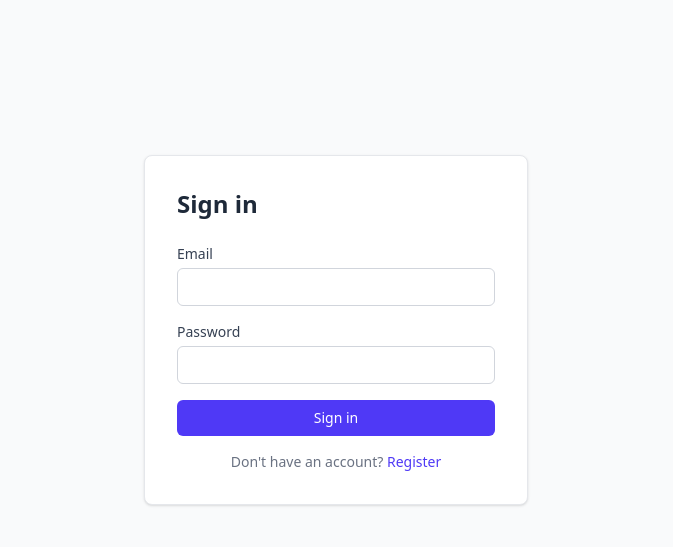
Login flow › shows a task on the tasks page after login
Type "user@example.com" into the field named "Email" at (336, 287), box [177,268,495,306]
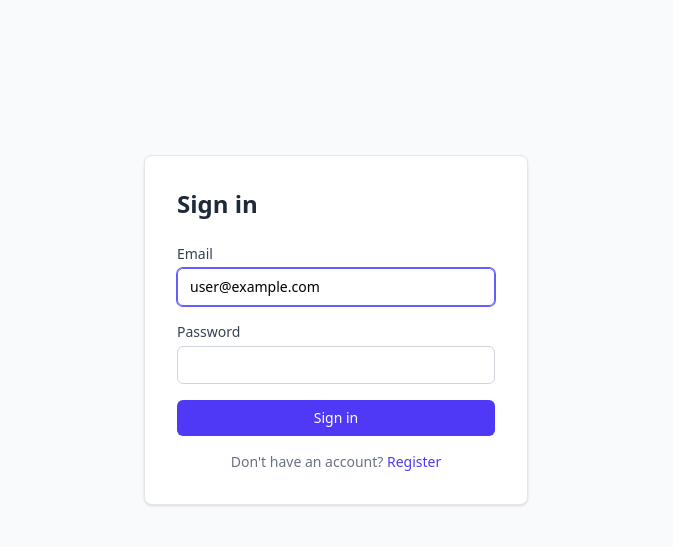
Type "password123" into the password field named "Password" at (336, 365), box [177,346,495,384]
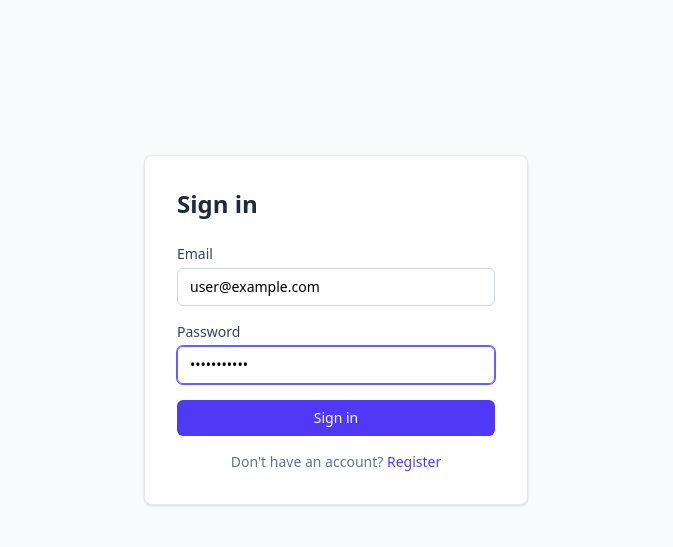
Click the submit button at (336, 418), box [177,400,495,436]
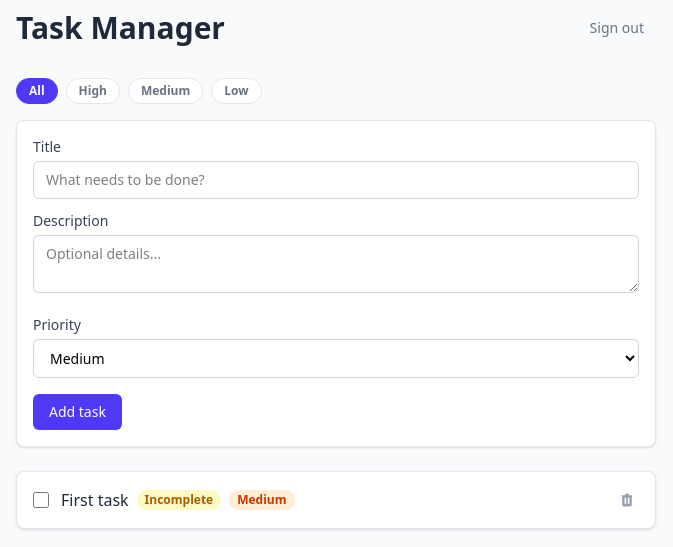
Now the text "First task" is shown, box [61,488,129,512]
